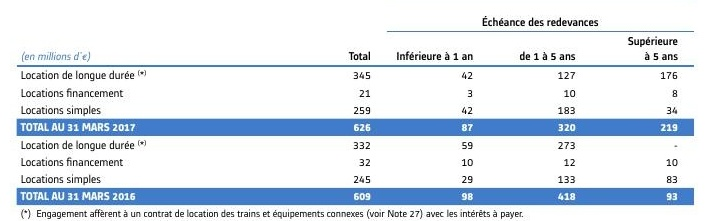table: (0, 0, 709, 221)
